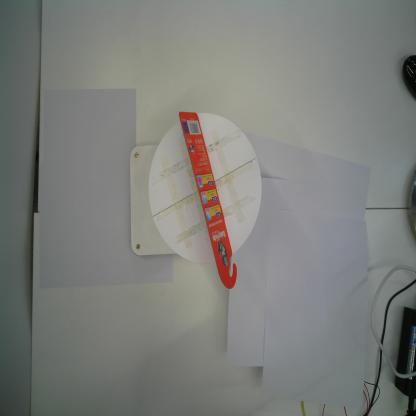Personal Hygiene: (177, 110, 238, 290)
